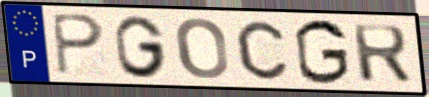C: (233, 18, 290, 82)
G: (292, 17, 352, 87), (112, 14, 170, 80)
O: (173, 16, 231, 81)
P: (49, 11, 107, 77)
R: (349, 23, 414, 86)
